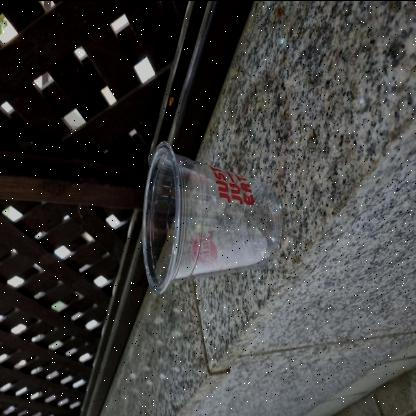Others: (138, 135, 288, 295)
